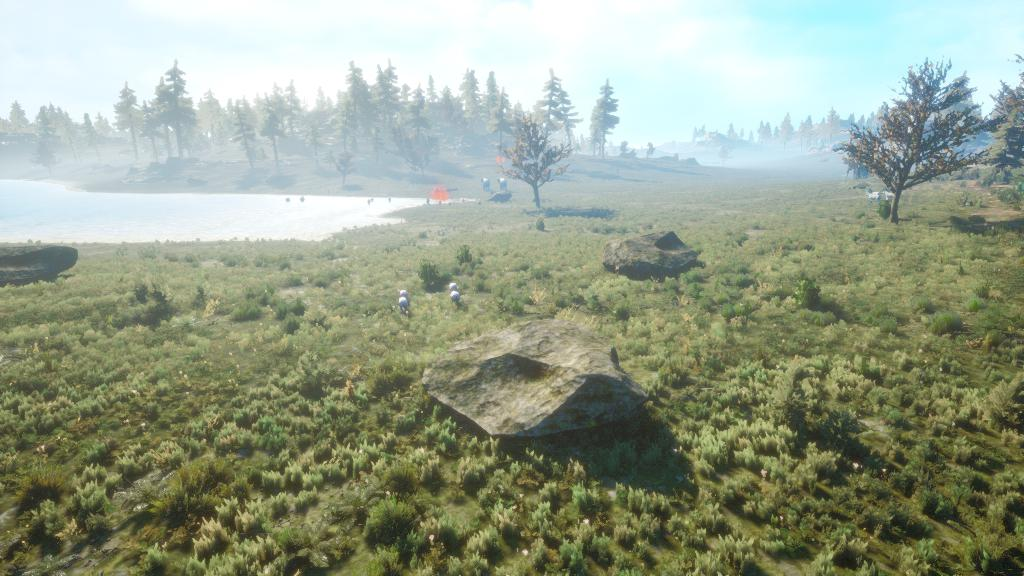Fire: (433, 187, 449, 200), (497, 154, 507, 164)
elephant: (495, 169, 510, 193), (479, 172, 493, 193)
pig: (448, 288, 465, 311), (397, 293, 411, 313)
